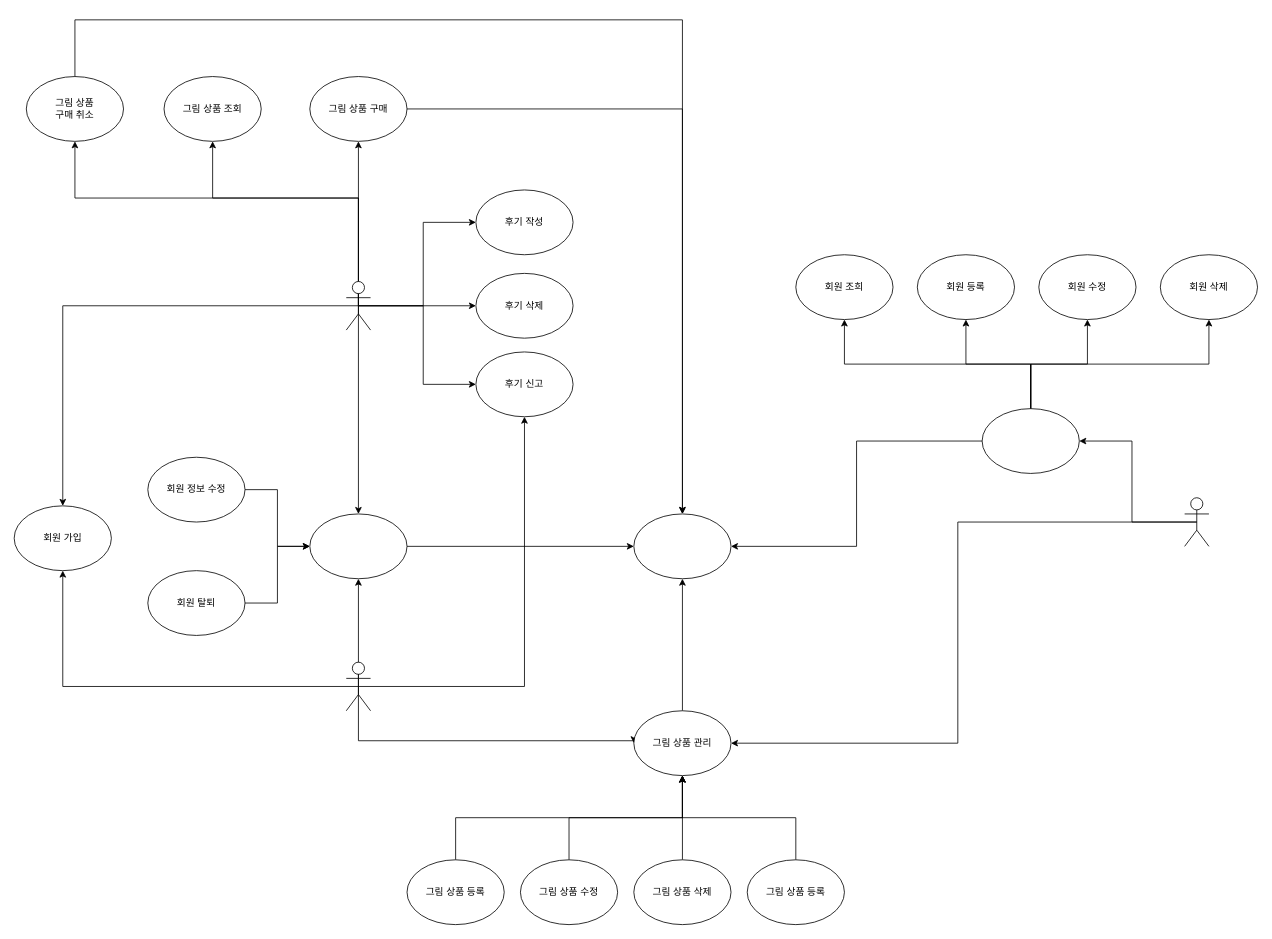
Some shapes in this 1272 by 939 pixel diagram are drawn without their labels. Here are the shapes that lost their labels. From the top down, the box of each, then its label:
(345, 281, 371, 330): 사용자(구매자)
(981, 408, 1079, 473): 회원 정보 관리
(1184, 497, 1209, 546): 관리자
(309, 513, 407, 579): 내 정보 관리
(633, 513, 731, 579): 사용자 인증
(345, 661, 371, 711): 사용자(판매자)
